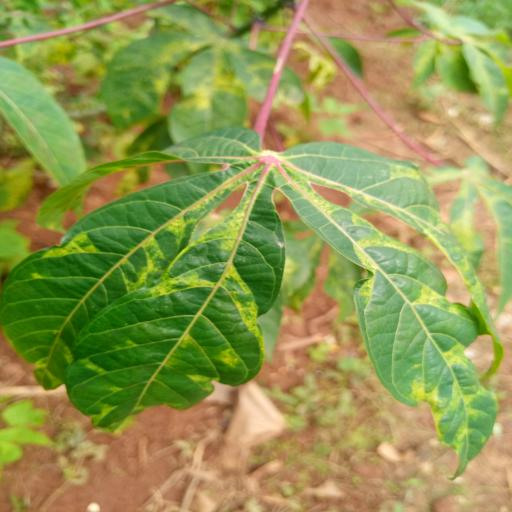Cassava_Mosaic: (5, 138, 512, 483)
